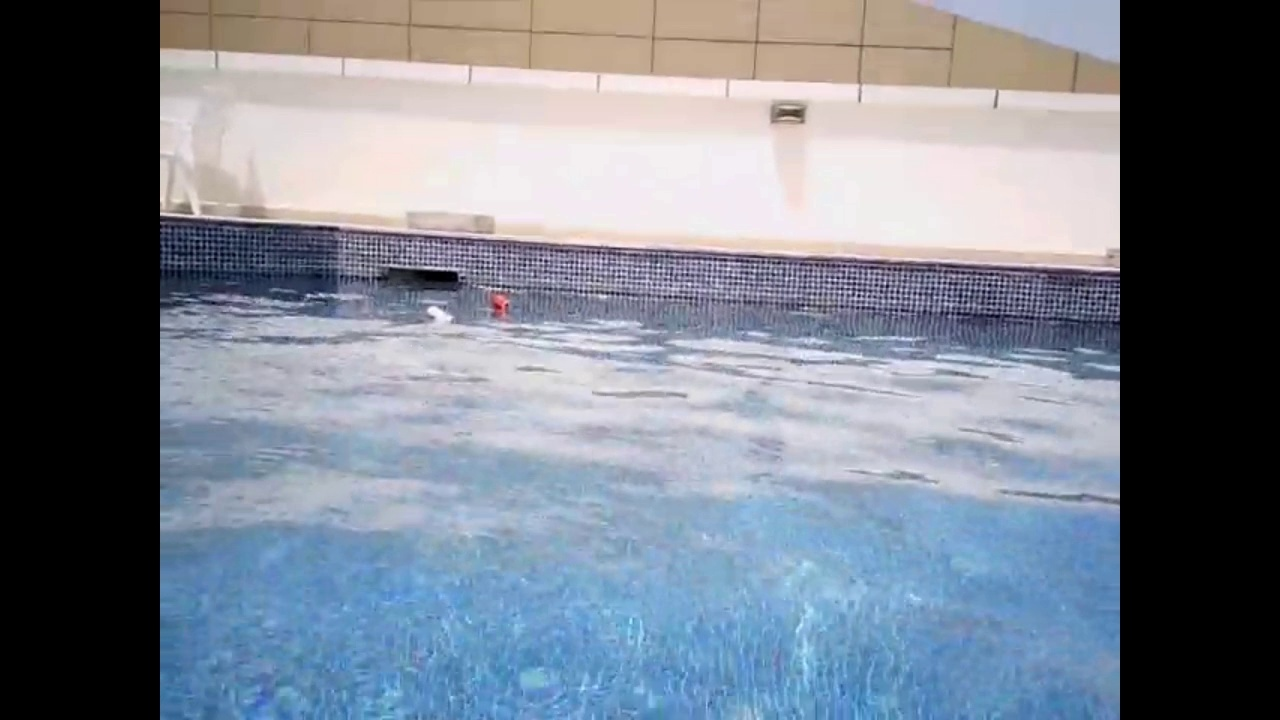debris: (422, 302, 454, 327), (488, 291, 516, 314)
